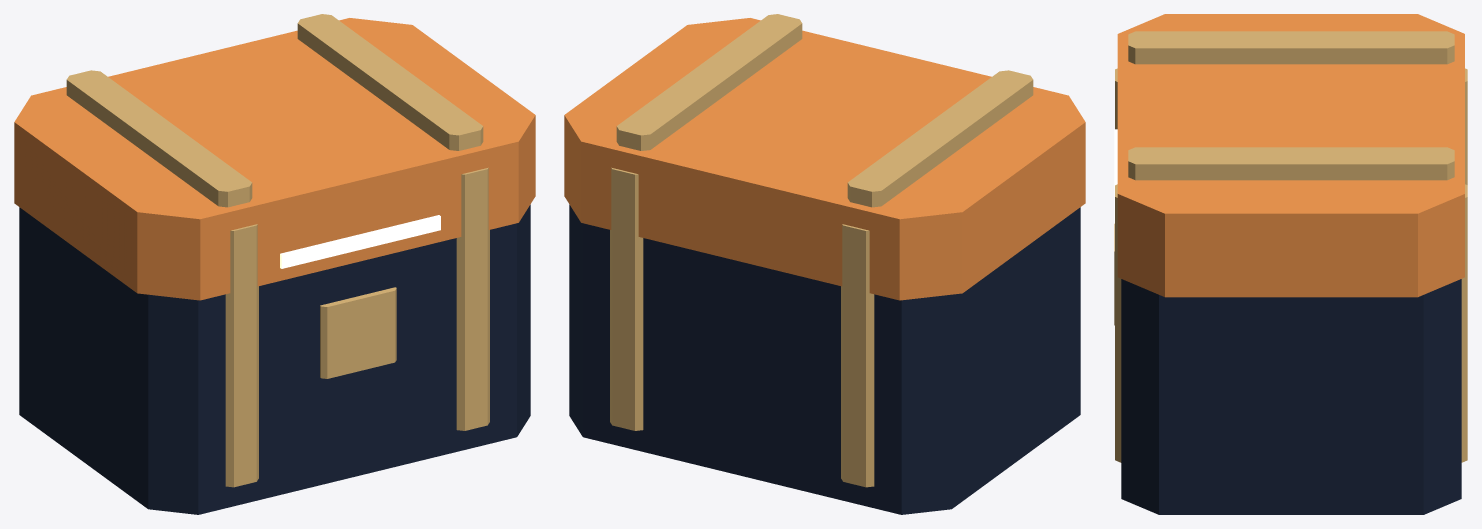
The model's file is loot_crate_common.glb.
The picture shows the model from 3 angles, left to right: view 1: azimuth 30°, elevation 25°; view 2: azimuth 150°, elevation 25°; view 3: azimuth 270°, elevation 25°; orthographic projection. The views are drawn at different scales.
Visible parts, largest first — view 1: body, lid, strap, light; view 2: body, lid, strap; view 3: lid, body, strap.
Boxes of the visible parts, left/top/right/bottom form: body: left=19, top=204, right=530, bottom=514; lid: left=14, top=18, right=535, bottom=300; strap: left=66, top=14, right=489, bottom=487; light: left=280, top=215, right=440, bottom=268; body: left=569, top=204, right=1080, bottom=514; lid: left=564, top=18, right=1085, bottom=300; strap: left=610, top=14, right=1033, bottom=487; lid: left=1117, top=14, right=1464, bottom=297; body: left=1121, top=279, right=1461, bottom=514; strap: left=1114, top=31, right=1467, bottom=462.
Bounding box in the file's own units: 0.8 × 0.6 × 0.5985.
